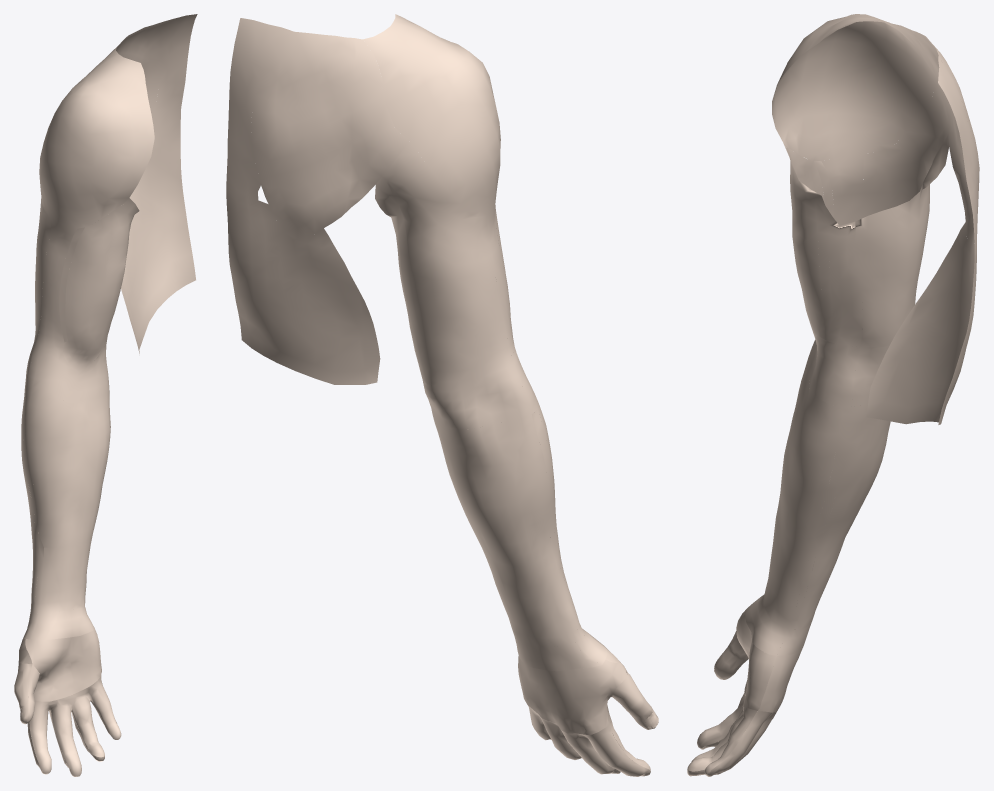
The model's file is skin.glb.
The picture shows the model from 3 angles, left to right: view 1: azimuth 30°, elevation 25°; view 2: azimuth 150°, elevation 25°; view 3: azimuth 270°, elevation 25°; orthographic projection. The views are drawn at different scales.
Parts seen in each view (by area): view 1: Deltoid region.r.001, Anterior region of forearm.r.001, Anterior region of arm.r.001, Infrascapular region.r.001, Palmar surfaces of digits of hand.r.001, Interscapular region.r.001, Palm.r.001, Anterior region of elbow.r.001, Scapular region.r.001, Anterior region of wrist.r.001, Dorsal surfaces of digits of hand.r.001, Posterior region of arm.r.001 (+4 smaller); view 2: Scapular region.r.001, Posterior region of arm.r.001, Infrascapular region.r.001, Posterior region of forearm.r.001, Deltoid region.r.001, Interscapular region.r.001, Posterior region of elbow.r.001, Dorsum of hand.r.001, Dorsal surfaces of digits of hand.r.001, Posterior region of wrist.r.001, Anterior region of arm.r.001, Lateral border of forearm.r.001; view 3: Deltoid region.r.001, Posterior region of arm.r.001, Infrascapular region.r.001, Anterior region of arm.r.001, Anterior region of forearm.r.001, Posterior region of forearm.r.001, Palmar surfaces of digits of hand.r.001, Anterior region of elbow.r.001, Scapular region.r.001, Medial border of forearm.r.001, Interscapular region.r.001, Palm.r.001 (+6 smaller).
Part boxes in pixels (x1=…): Deltoid region.r.001: x1=39, y1=47, x2=154, y2=228; Anterior region of forearm.r.001: x1=28, y1=390, x2=110, y2=613; Anterior region of arm.r.001: x1=38, y1=198, x2=139, y2=349; Infrascapular region.r.001: x1=121, y1=152, x2=195, y2=353; Palmar surfaces of digits of hand.r.001: x1=26, y1=664, x2=121, y2=776; Interscapular region.r.001: x1=150, y1=14, x2=197, y2=159; Palm.r.001: x1=25, y1=629, x2=101, y2=701; Anterior region of elbow.r.001: x1=26, y1=340, x2=109, y2=400; Scapular region.r.001: x1=108, y1=25, x2=160, y2=117; Anterior region of wrist.r.001: x1=26, y1=607, x2=94, y2=640; Dorsal surfaces of digits of hand.r.001: x1=14, y1=663, x2=116, y2=776; Posterior region of arm.r.001: x1=35, y1=198, x2=50, y2=338; Scapular region.r.001: x1=251, y1=31, x2=408, y2=239; Posterior region of arm.r.001: x1=375, y1=142, x2=510, y2=371; Infrascapular region.r.001: x1=227, y1=209, x2=380, y2=384; Posterior region of forearm.r.001: x1=432, y1=414, x2=584, y2=646; Deltoid region.r.001: x1=363, y1=14, x2=500, y2=216; Interscapular region.r.001: x1=226, y1=18, x2=293, y2=221; Posterior region of elbow.r.001: x1=418, y1=355, x2=531, y2=429; Dorsum of hand.r.001: x1=518, y1=656, x2=627, y2=735; Dorsal surfaces of digits of hand.r.001: x1=528, y1=670, x2=658, y2=776; Posterior region of wrist.r.001: x1=515, y1=636, x2=605, y2=671; Anterior region of arm.r.001: x1=487, y1=204, x2=515, y2=354; Lateral border of forearm.r.001: x1=531, y1=409, x2=579, y2=629; Deltoid region.r.001: x1=772, y1=14, x2=937, y2=161; Posterior region of arm.r.001: x1=854, y1=85, x2=948, y2=347; Infrascapular region.r.001: x1=866, y1=222, x2=976, y2=424; Anterior region of arm.r.001: x1=783, y1=143, x2=864, y2=346; Anterior region of forearm.r.001: x1=763, y1=358, x2=842, y2=628; Posterior region of forearm.r.001: x1=788, y1=404, x2=890, y2=629; Palmar surfaces of digits of hand.r.001: x1=687, y1=631, x2=756, y2=774; Anterior region of elbow.r.001: x1=807, y1=335, x2=859, y2=407; Scapular region.r.001: x1=911, y1=30, x2=979, y2=254; Medial border of forearm.r.001: x1=790, y1=406, x2=852, y2=621; Interscapular region.r.001: x1=938, y1=56, x2=978, y2=270; Palm.r.001: x1=736, y1=608, x2=776, y2=710.
Size of the model in its own units: 0.3138 by 0.7385 by 0.2359.
